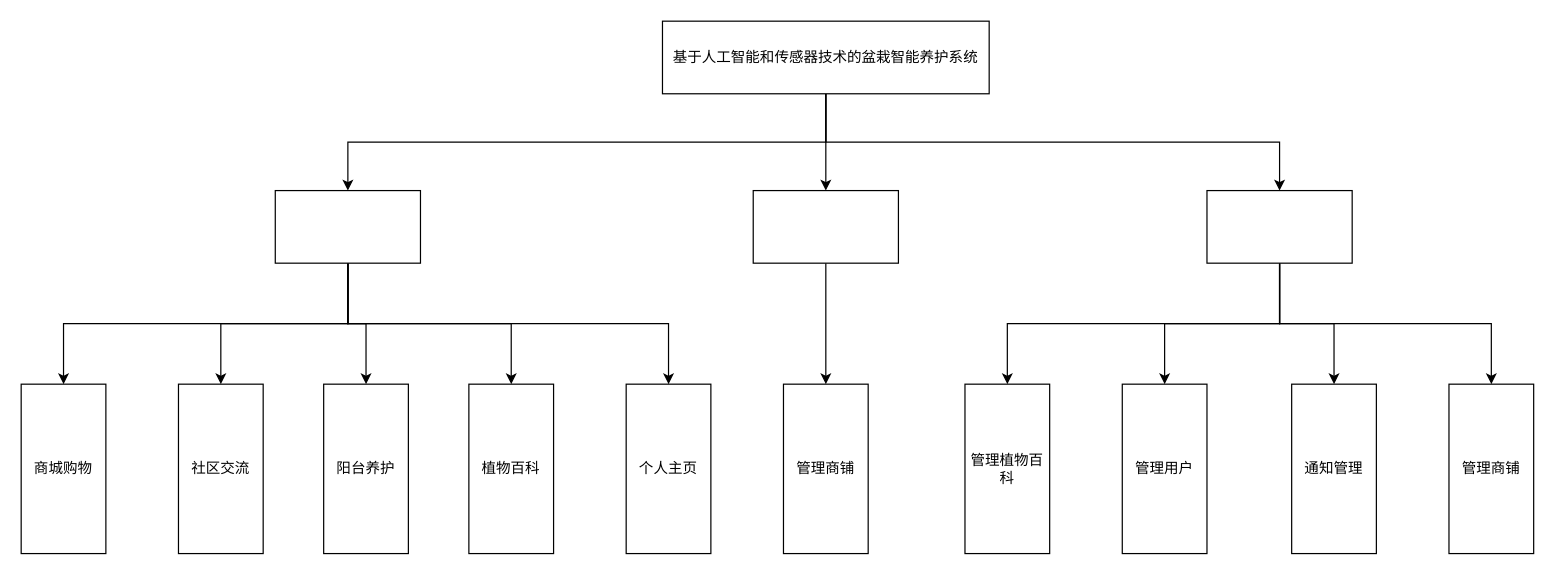
This 1555x575 diagram has some shape labels left out. Each missing label, with the centre of its shape:
商家模块: the point at 825,226
普通用户模块: the point at 347,226
管理员模块: the point at 1279,226
